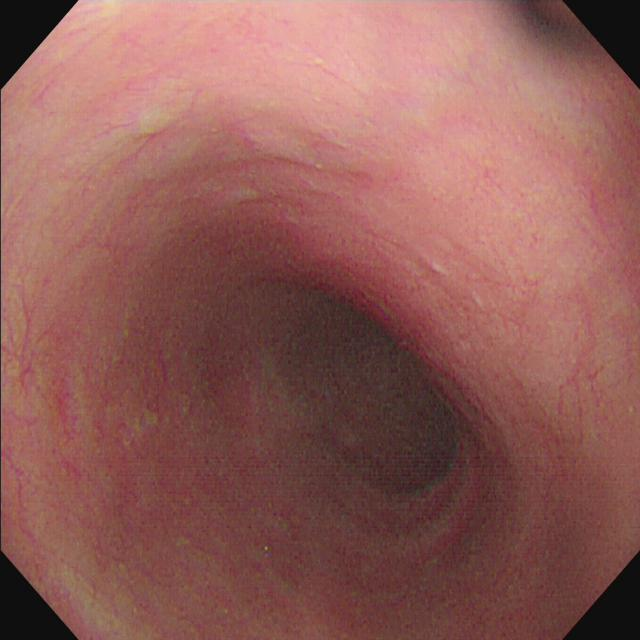E: (285, 296, 460, 498)
